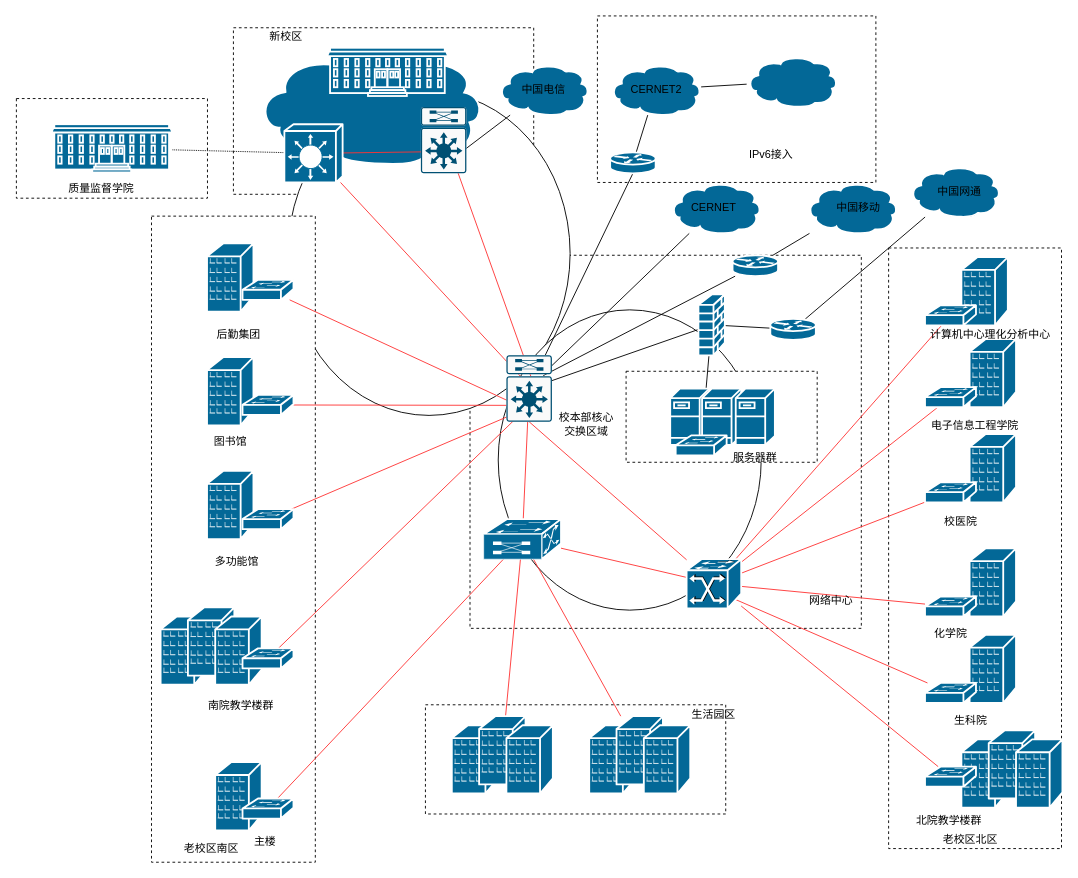
This 1078x878 diagram has some shape labels left out. Each missing label, with the centre of its shape:
6BONE: point (791, 81)
新校区核心 交换区域: point (428, 253)
